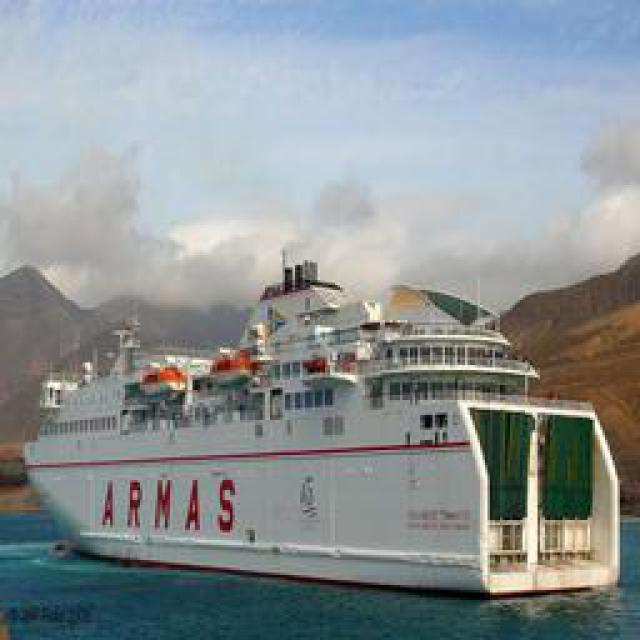Ship: (18, 245, 626, 608)
